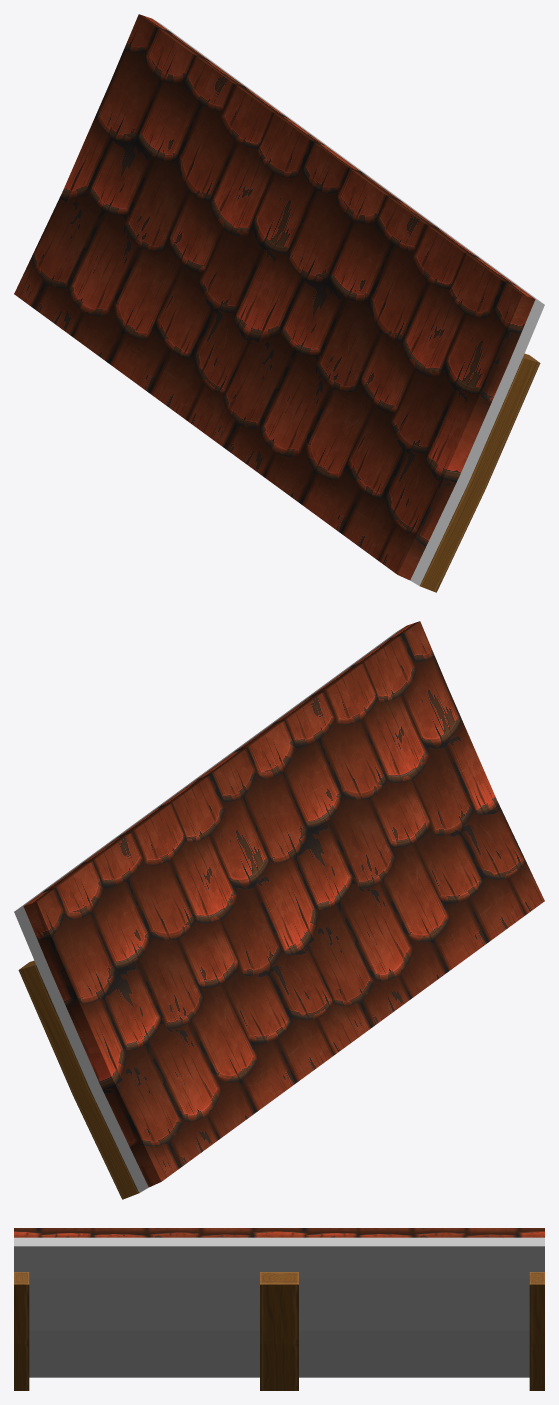
The model's file is SM_House_Roof_01_Tiling_Top.fbx.
The picture shows the model from 3 angles, top to bottom: view 1: azimuth 30°, elevation 25°; view 2: azimuth 150°, elevation 25°; view 3: azimuth 270°, elevation 25°; orthographic projection. The views are drawn at different scales.
Visible parts, largest first — view 1: SM_House_Roof_01_Tiling_Top; view 2: SM_House_Roof_01_Tiling_Top; view 3: SM_House_Roof_01_Tiling_Top.
Boxes of the visible parts, <box> form: SM_House_Roof_01_Tiling_Top: <box>14,14,544,592</box>; SM_House_Roof_01_Tiling_Top: <box>14,621,544,1199</box>; SM_House_Roof_01_Tiling_Top: <box>14,1228,544,1390</box>.
Size of the model in its own units: 1.11 by 1.99 by 5.
